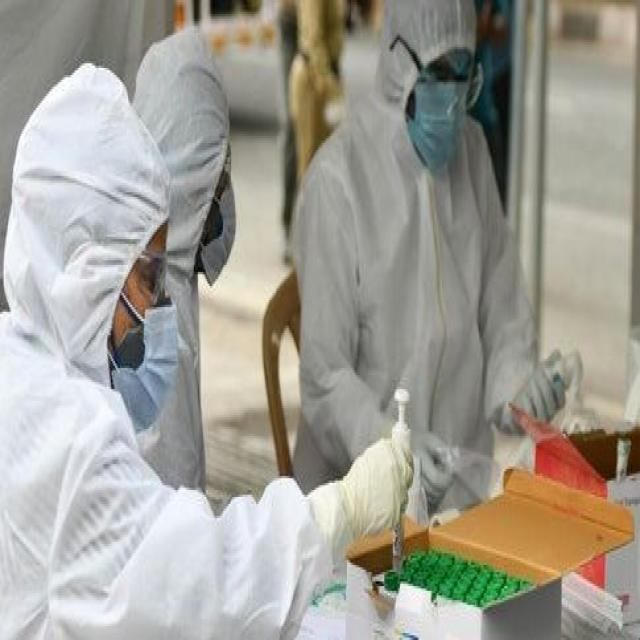Gloves: (342, 424, 414, 540), (513, 347, 566, 424), (412, 427, 451, 506)
Goggles: (416, 54, 483, 110), (132, 246, 173, 298)
